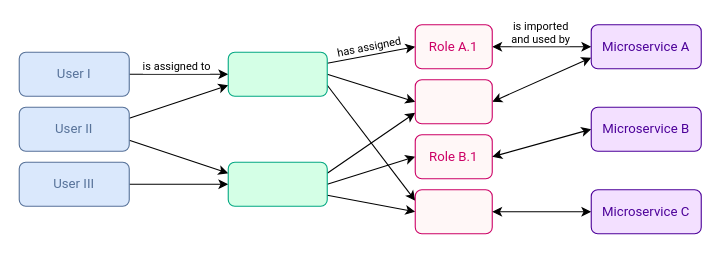
The diagram is 721 pixels wide and 253 high, and some of its shapes have lost their labels. Each missing label, with the centre of its shape:
"Group 1" belongs at (277,73).
"Group 2" belongs at (277,183).
"Role A.2" belongs at (453,101).
"Role C.1" belongs at (453,211).
